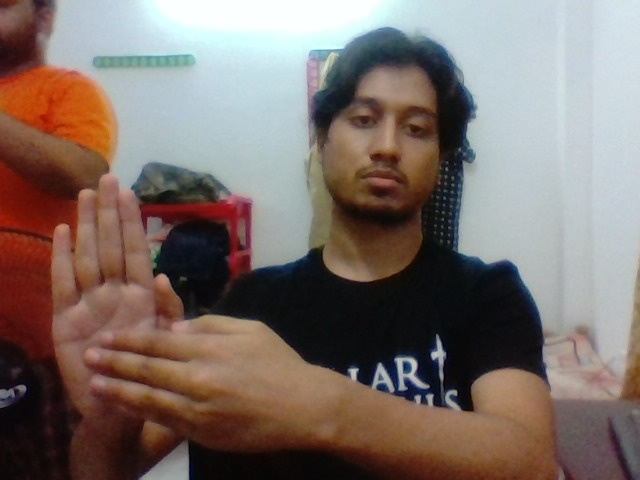H: (30, 148, 297, 460)
